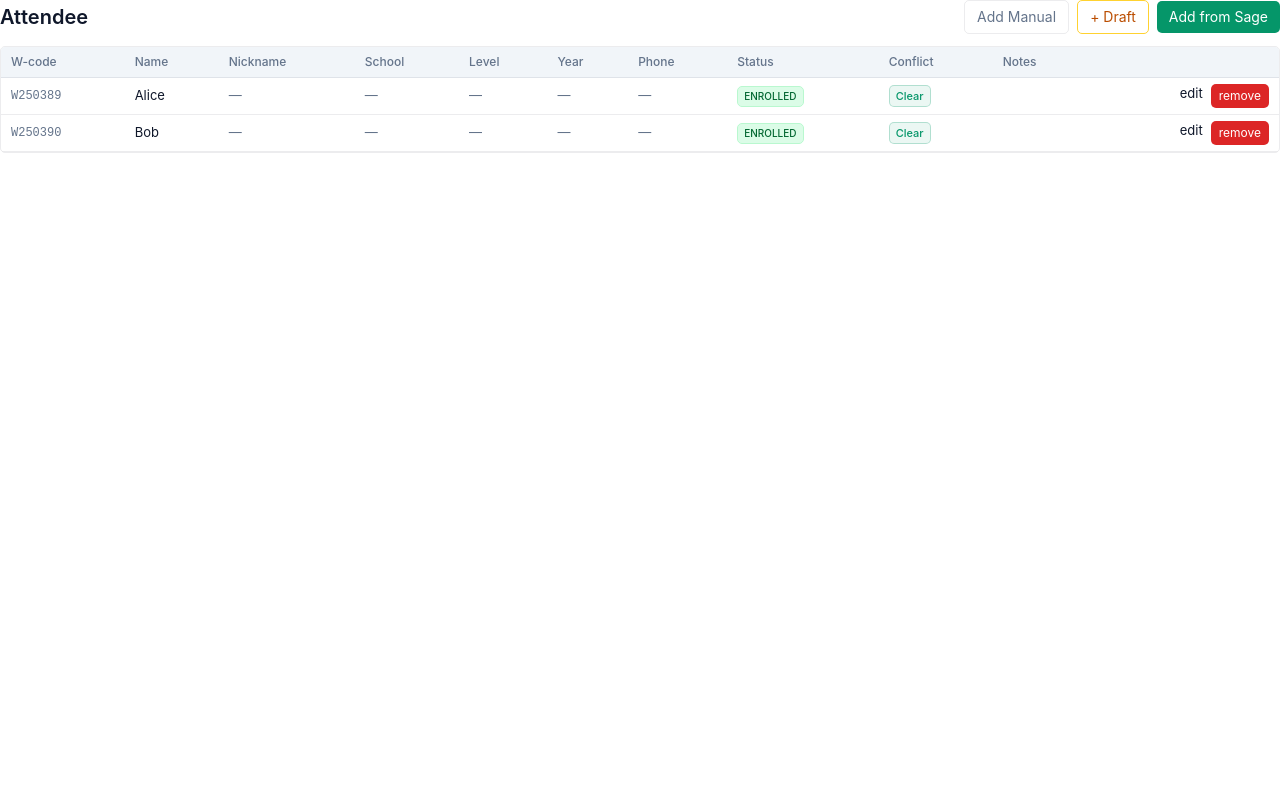
Test: AttendeeSection › CRM disabled state › opens a modal with W-code input when "Add Manual" is clicked
Click the button "Add Manual": (1017, 17) [964,0,1069,34]
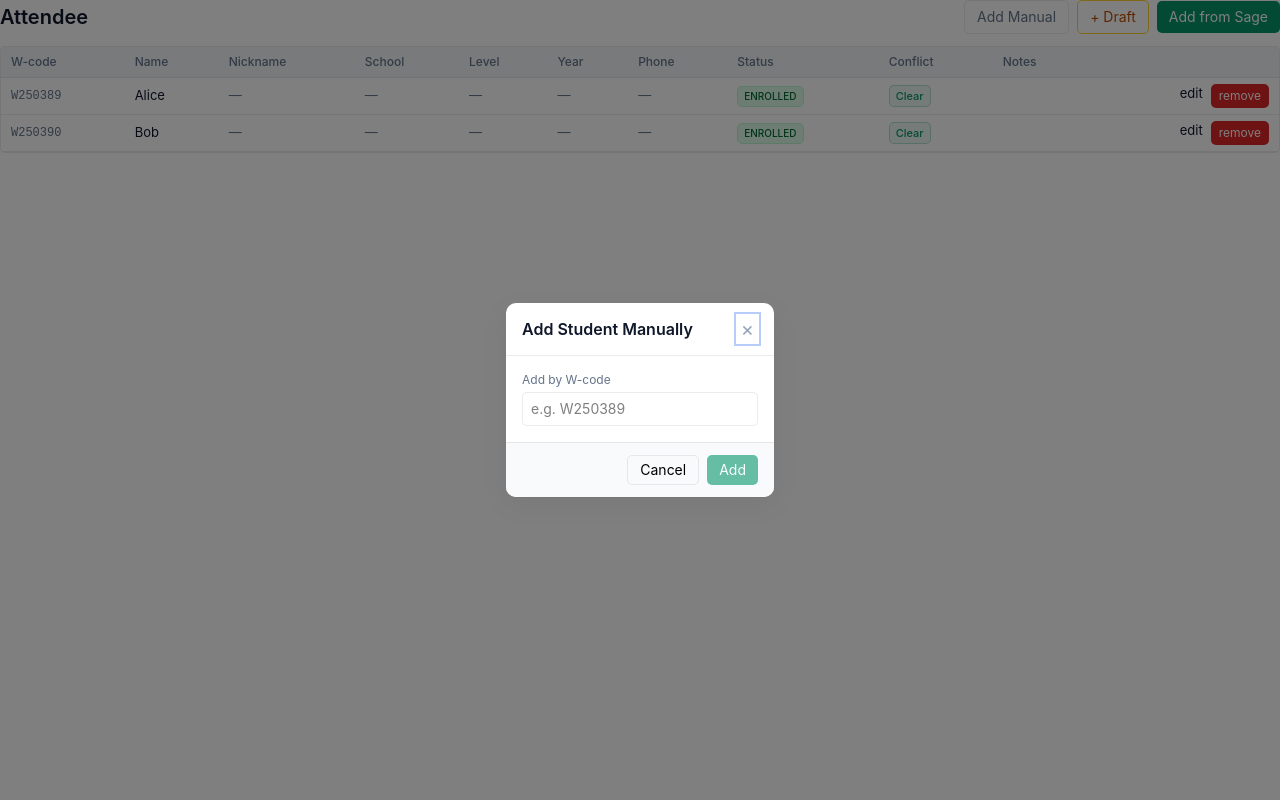
Now the text "Add by W-code" is shown, box [522,372,611,387]
Now the field with placeholder "e.g. W250389" is shown, box [522,392,758,426]
